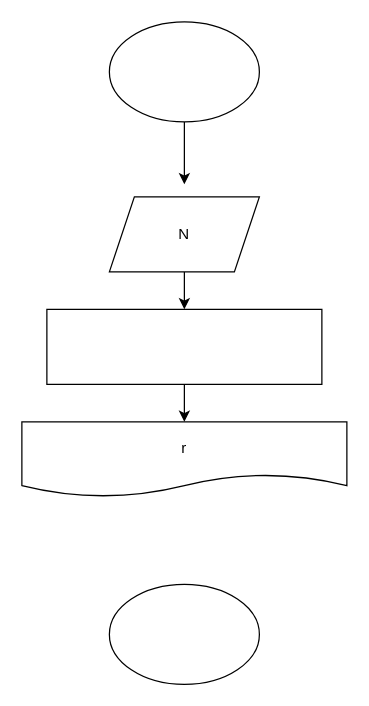
Image size: 369x706. Some labels were removed from this diagram. The centre of each missing label's shape, as x and y in pixels:
"END" goes at [183,633].
"START END" goes at [183,71].
